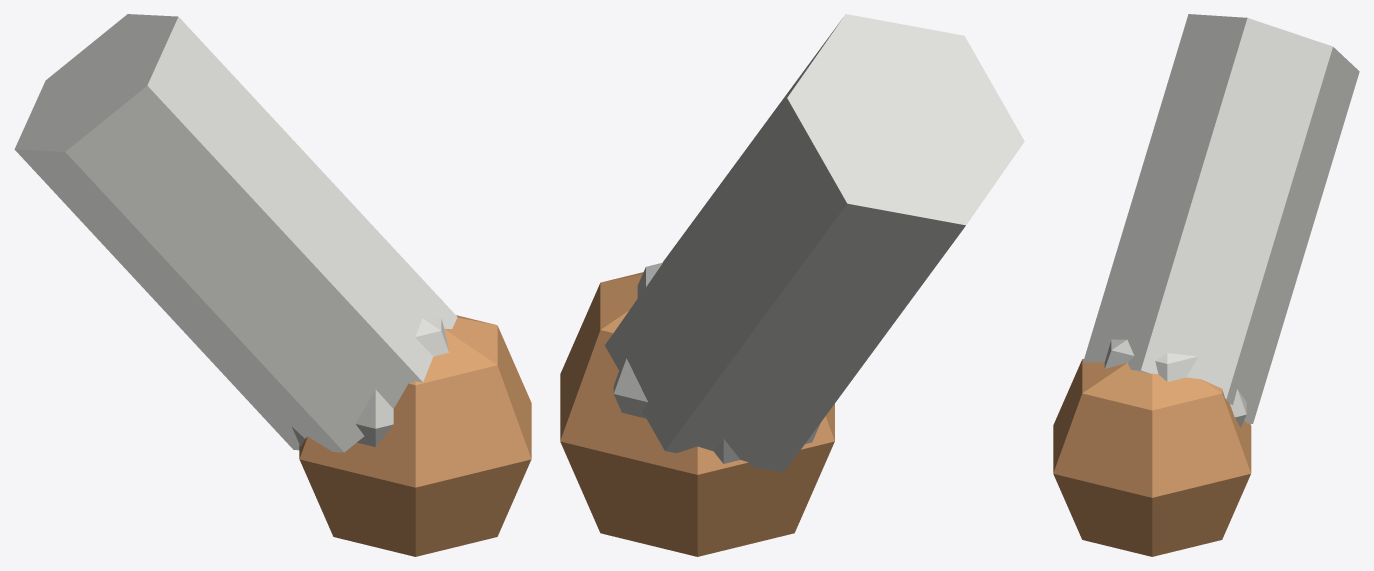
The model's file is parade_arm.glb.
3 renders of one model, left to right at view 1: azimuth 30°, elevation 25°; view 2: azimuth 150°, elevation 25°; view 3: azimuth 270°, elevation 25°, orthographic. The views are drawn at different scales.
Parts seen in each view (by area): view 1: paint_dancer_paint, arms_skin_arena; view 2: paint_dancer_paint, arms_skin_arena; view 3: paint_dancer_paint, arms_skin_arena.
Boxes of the visible parts, bbox=[...] form: paint_dancer_paint: bbox=[14, 14, 457, 452]; arms_skin_arena: bbox=[299, 315, 531, 556]; paint_dancer_paint: bbox=[605, 14, 1024, 472]; arms_skin_arena: bbox=[560, 272, 834, 556]; paint_dancer_paint: bbox=[1083, 14, 1359, 427]; arms_skin_arena: bbox=[1053, 359, 1251, 556].
Size of the model in its own units: 0.278 by 0.3331 by 0.2011.
